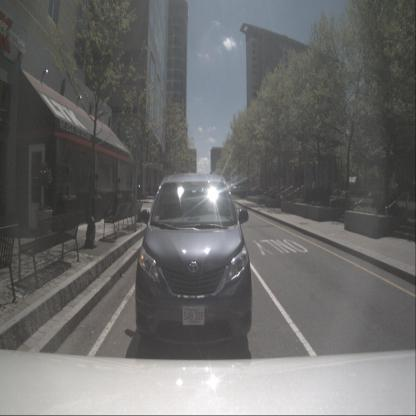vehicle-car: (136, 173, 252, 341)
